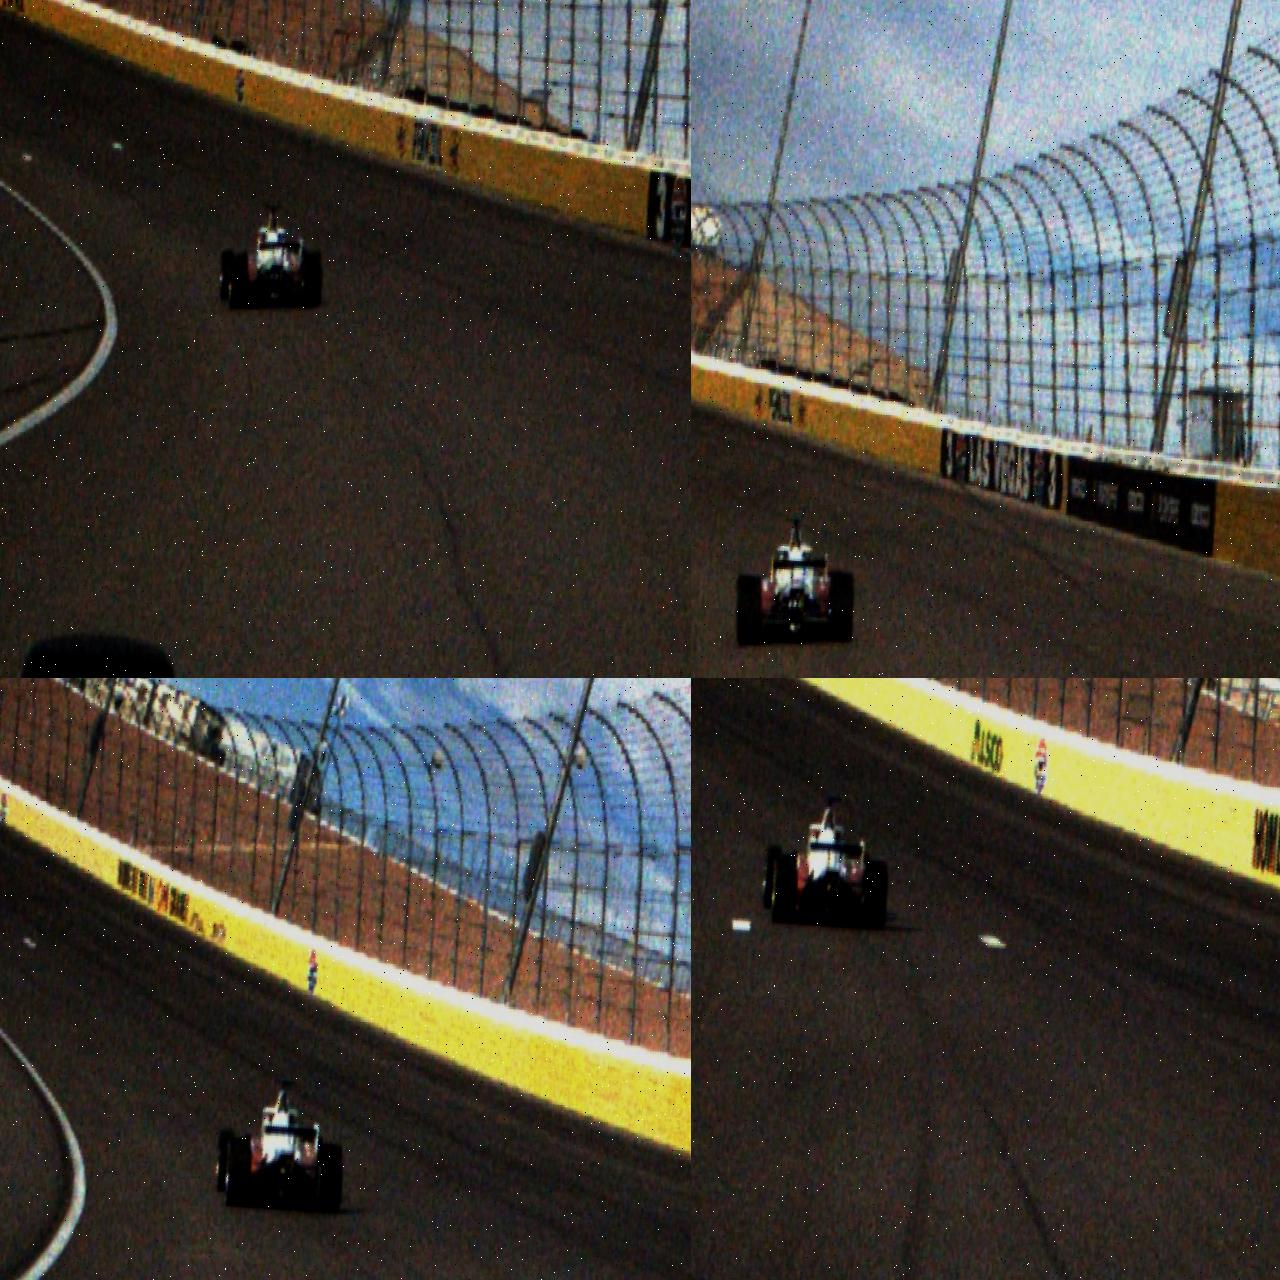AV: (212, 1071, 349, 1216), (761, 791, 893, 932), (735, 511, 859, 654), (217, 198, 328, 316)
Wheel: (224, 1137, 252, 1208), (828, 571, 855, 644), (318, 1143, 345, 1216), (771, 853, 798, 924), (736, 574, 762, 646), (863, 859, 888, 930), (215, 1129, 236, 1194), (763, 844, 784, 908), (302, 250, 325, 309), (229, 253, 248, 311), (218, 248, 234, 301)
